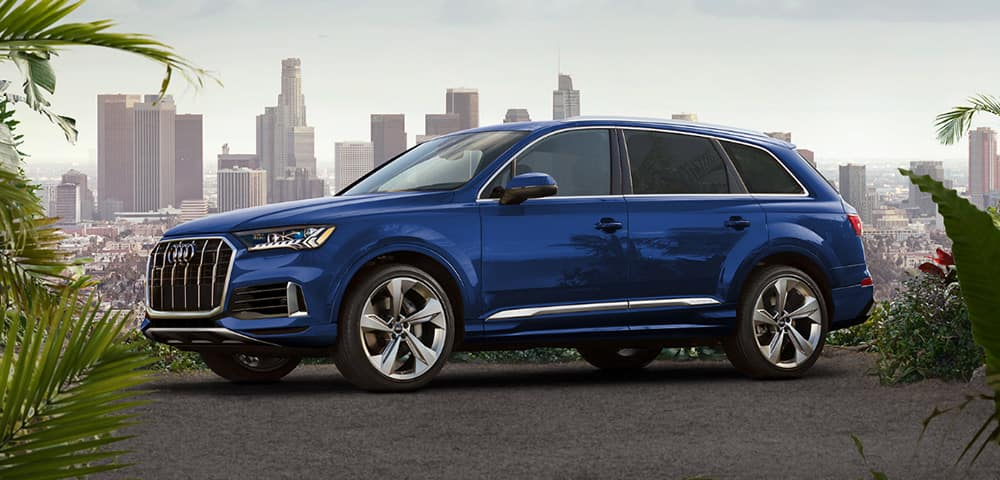car: (141, 114, 875, 392)
